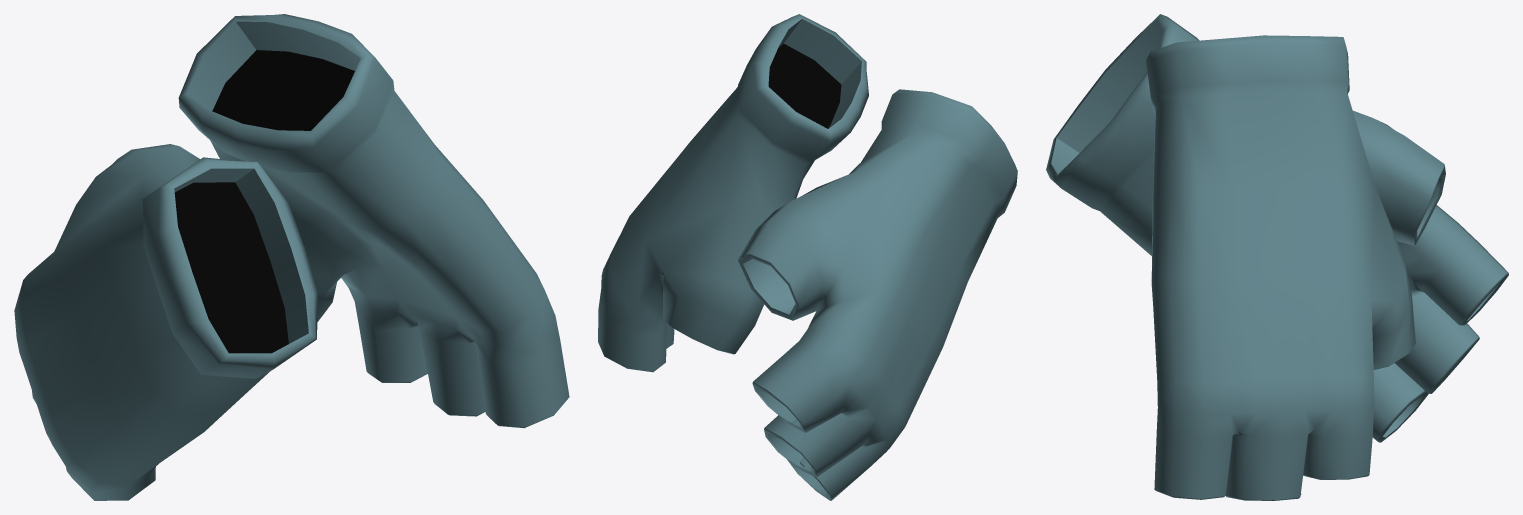
Rendered from Gloves_01_mesh.fbx.
3 renders of one model, left to right at view 1: azimuth 30°, elevation 25°; view 2: azimuth 150°, elevation 25°; view 3: azimuth 270°, elevation 25°, orthographic. The views are drawn at different scales.
Visible parts, largest first — view 1: Gloves_01_mesh; view 2: Gloves_01_mesh; view 3: Gloves_01_mesh.
Part boxes in pixels (x1,y1,x2,y2): Gloves_01_mesh: (14,14,569,500); Gloves_01_mesh: (598,14,1017,500); Gloves_01_mesh: (1046,14,1508,500).
Size of the model in its own units: 10.28 by 11.21 by 10.16.
